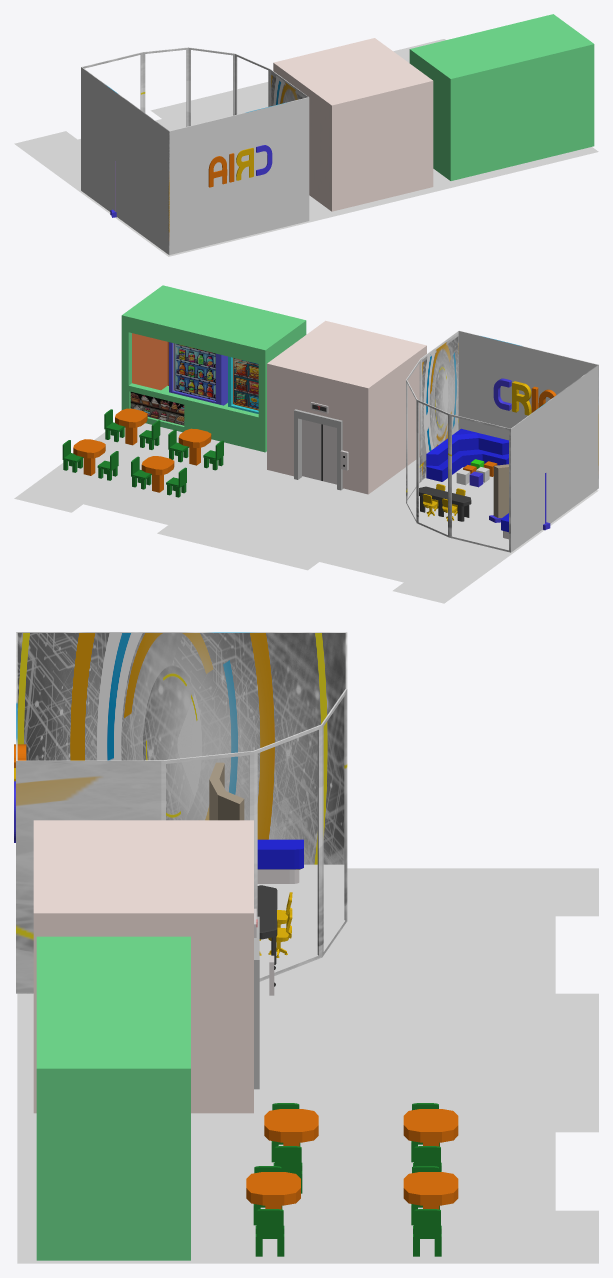
The model's file is FAM_FINAL.fbx.
3 renders of one model, top to bottom at view 1: azimuth 30°, elevation 25°; view 2: azimuth 150°, elevation 25°; view 3: azimuth 270°, elevation 25°, orthographic. The views are drawn at different scales.
Visible parts, largest first — view 1: Cube.046, Cube.005, Cube, Cube.001, Cube.017, Cube.020; view 2: Cube.001, Cube.046, Cube, Cube.005, Cube.017, Cube.020, Cube.018, Cube.019, Cube.002, Cube.006, Cube.008, Cube.011 (+3 smaller); view 3: Cube.001, Cube.021, Cube.005, Cube, Cube.046, Cube.017, Cube.011, Cube.008, Cube.006, Cube.014, Cube.066, Cube.009 (+1 smaller).
Part boxes in pixels (box(x1,y1,x2,y2)): Cube.046: box(81, 47, 309, 254); Cube.005: box(409, 14, 594, 180); Cube: box(273, 38, 433, 211); Cube.001: box(14, 39, 598, 256); Cube.017: box(110, 145, 272, 217); Cube.020: box(271, 72, 305, 105); Cube.001: box(14, 423, 598, 603); Cube.046: box(406, 330, 598, 552); Cube: box(267, 320, 426, 494); Cube.005: box(121, 285, 306, 452); Cube.017: box(406, 333, 556, 551); Cube.020: box(422, 334, 458, 479); Cube.018: box(169, 342, 227, 405); Cube.019: box(228, 356, 258, 413); Cube.002: box(294, 409, 343, 490); Cube.006: box(115, 408, 147, 445); Cube.008: box(73, 439, 105, 475); Cube.011: box(141, 456, 174, 492); Cube.001: box(17, 868, 598, 1263); Cube.021: box(17, 633, 345, 864); Cube.005: box(36, 936, 190, 1260); Cube: box(33, 820, 274, 1113); Cube.046: box(16, 632, 347, 993); Cube.017: box(14, 744, 346, 993); Cube.011: box(403, 1109, 458, 1146); Cube.008: box(403, 1172, 458, 1209); Cube.006: box(246, 1172, 300, 1209); Cube.014: box(264, 1109, 318, 1146); Cube.066: box(255, 1209, 284, 1256); Cube.009: box(413, 1209, 441, 1256).
Size of the model in its own units: 6920 by 1931 by 4284.
